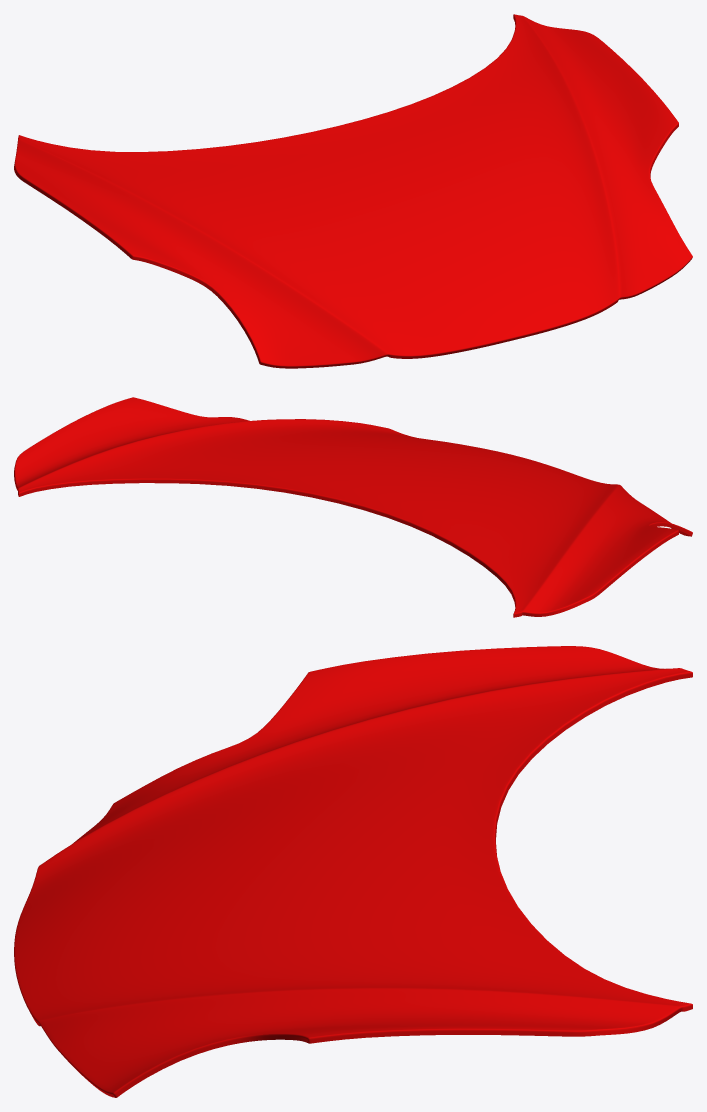
Rendered from CofreCarro.obj.
The picture shows the model from 3 angles, top to bottom: view 1: azimuth 30°, elevation 25°; view 2: azimuth 150°, elevation 25°; view 3: azimuth 270°, elevation 25°; orthographic projection. The views are drawn at different scales.
Parts seen in each view (by area): view 1: Cofre; view 2: Cofre; view 3: Cofre.
Boxes of the visible parts, box(x1,y1,x2,y2) form: Cofre: box(14, 14, 692, 368); Cofre: box(14, 397, 692, 617); Cofre: box(14, 646, 692, 1097).
Size of the model in its own units: 4.52 by 0.6781 by 3.36.
